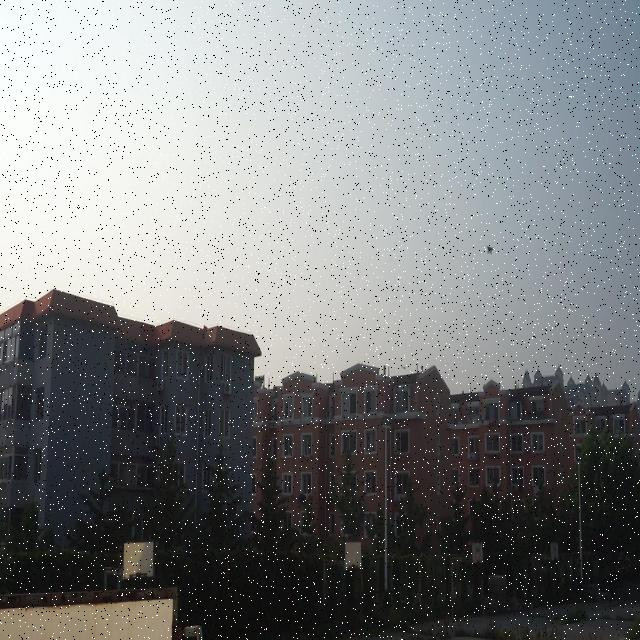UAV: (486, 245, 494, 255)
